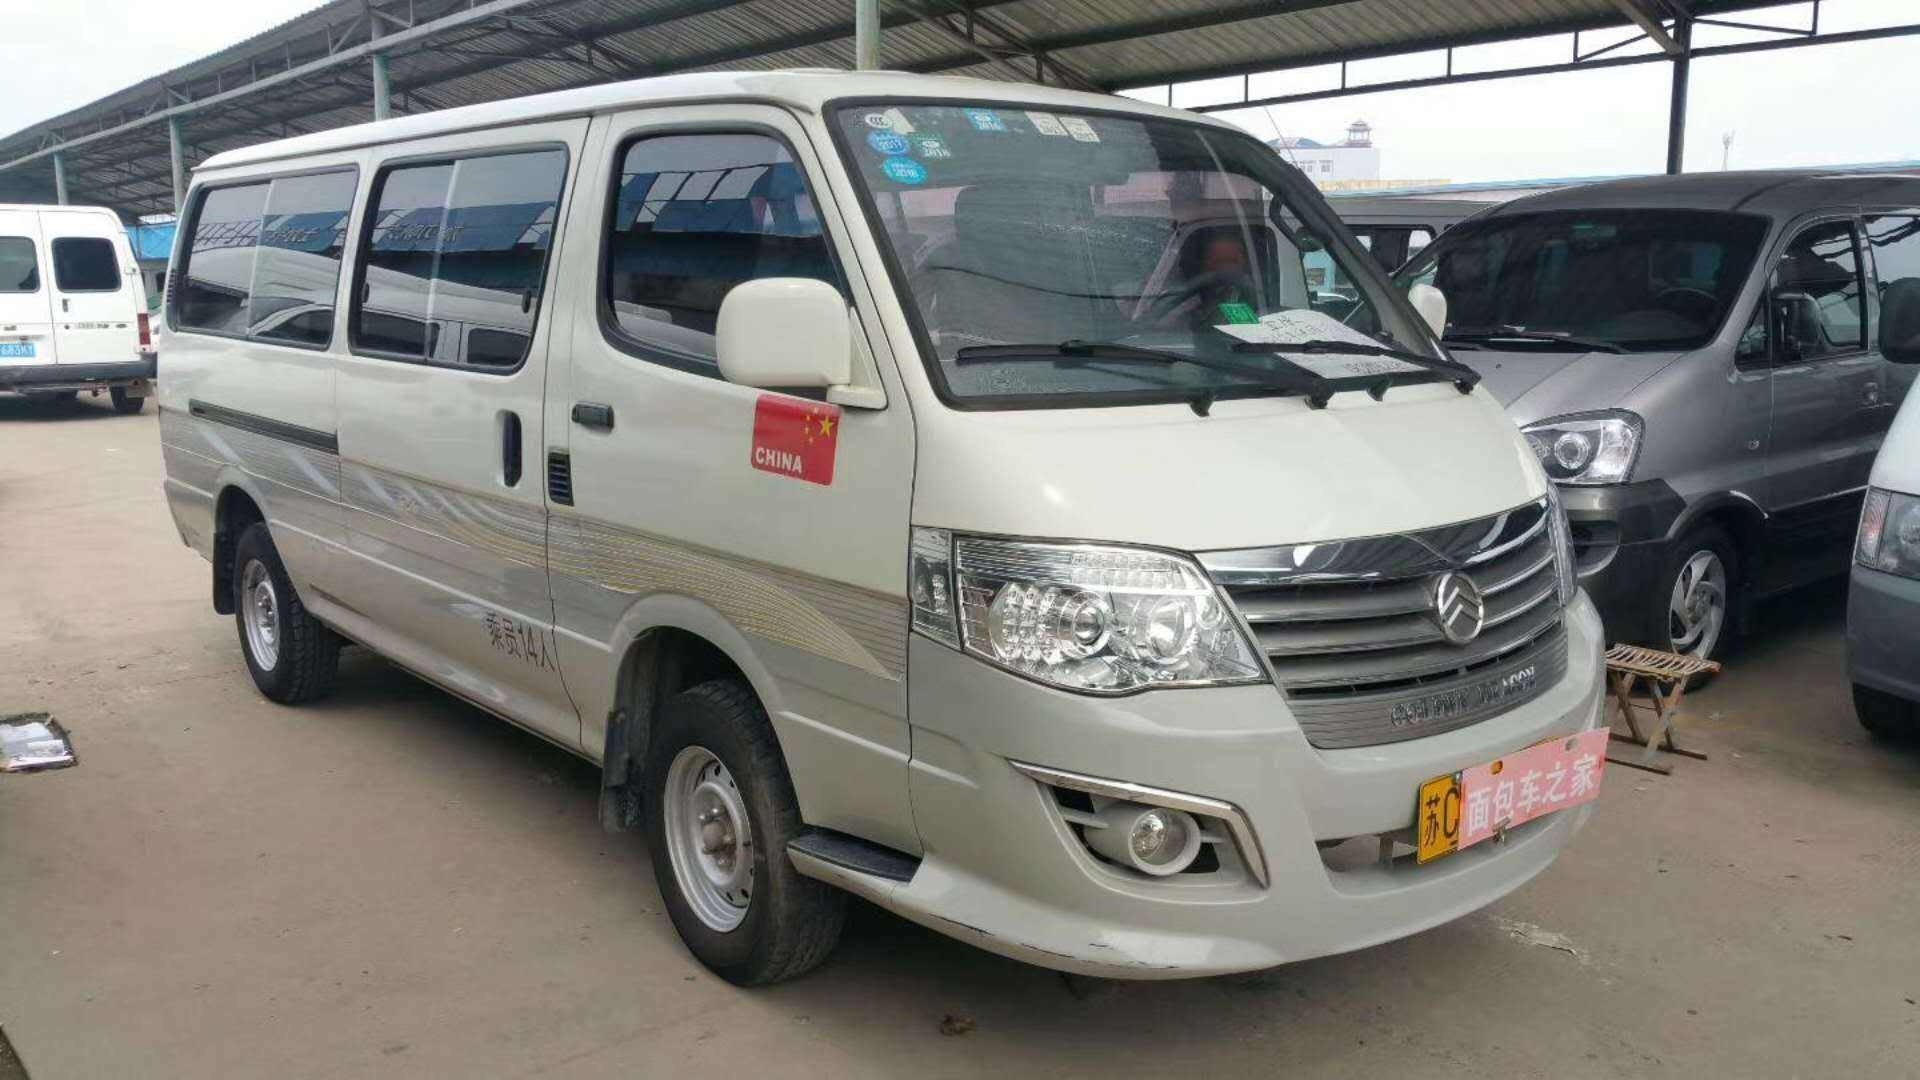minibus: (142, 65, 1615, 1015)
